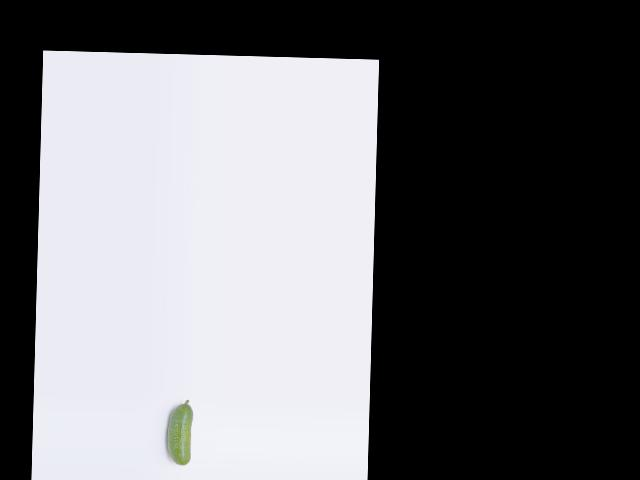cucumber: (166, 399, 193, 466)
